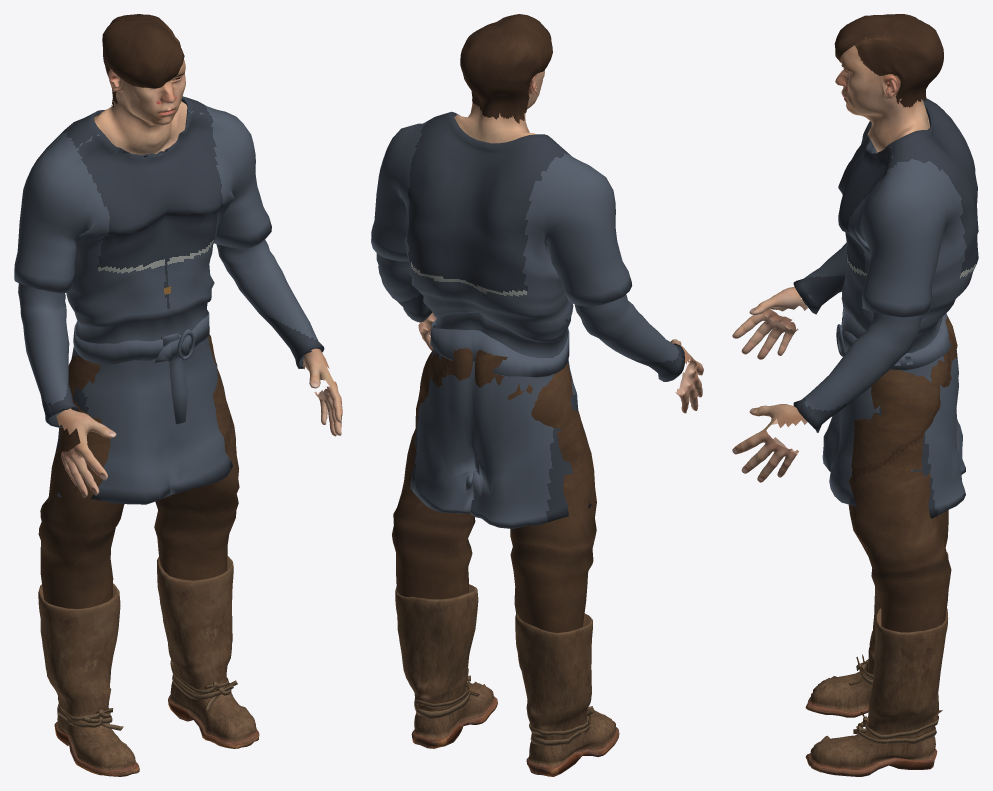
Rendered from kest-travel-coat.glb.
3 views of the same model, side by side, from view 1: azimuth 30°, elevation 25°; view 2: azimuth 150°, elevation 25°; view 3: azimuth 270°, elevation 25° (orthographic).
Parts seen in each view (by area): view 1: kest-travel-coat runtime mesh; view 2: kest-travel-coat runtime mesh; view 3: kest-travel-coat runtime mesh.
Boxes of the visible parts, <box> form: kest-travel-coat runtime mesh: <box>14,14,342,776</box>; kest-travel-coat runtime mesh: <box>371,14,703,776</box>; kest-travel-coat runtime mesh: <box>732,14,978,776</box>.
Bounding box in the file's own units: 0.7486 × 1.85 × 0.5749.
7 materials, 7 textured.
